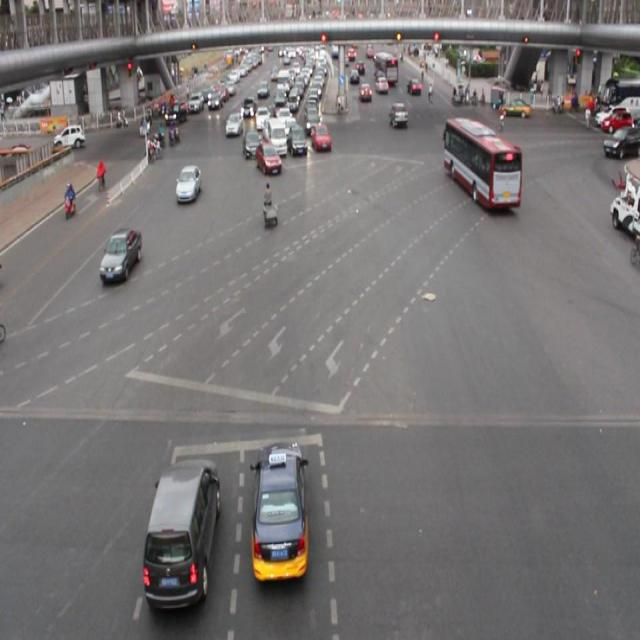car: (251, 440, 310, 582), (98, 227, 141, 281), (175, 164, 202, 205), (256, 140, 280, 173), (310, 122, 331, 154), (288, 124, 308, 157), (243, 128, 261, 160), (226, 110, 243, 139)
truck: (142, 455, 219, 612), (264, 117, 288, 156)
van: (443, 118, 518, 207)
